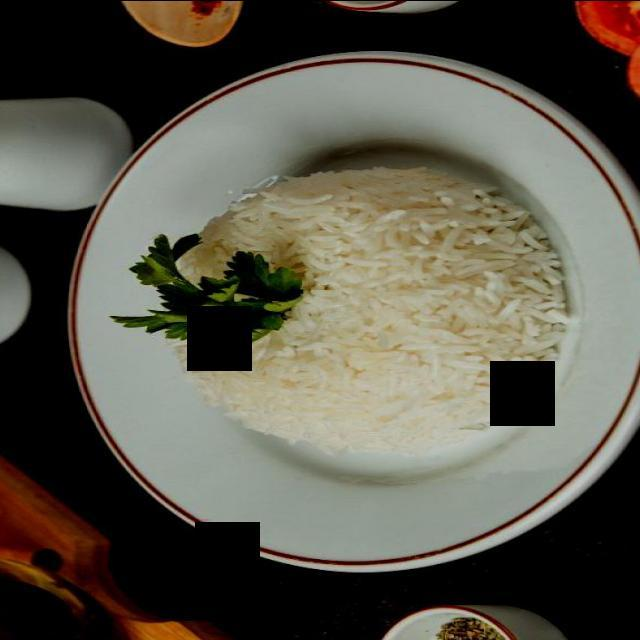rice: (161, 166, 570, 452)
